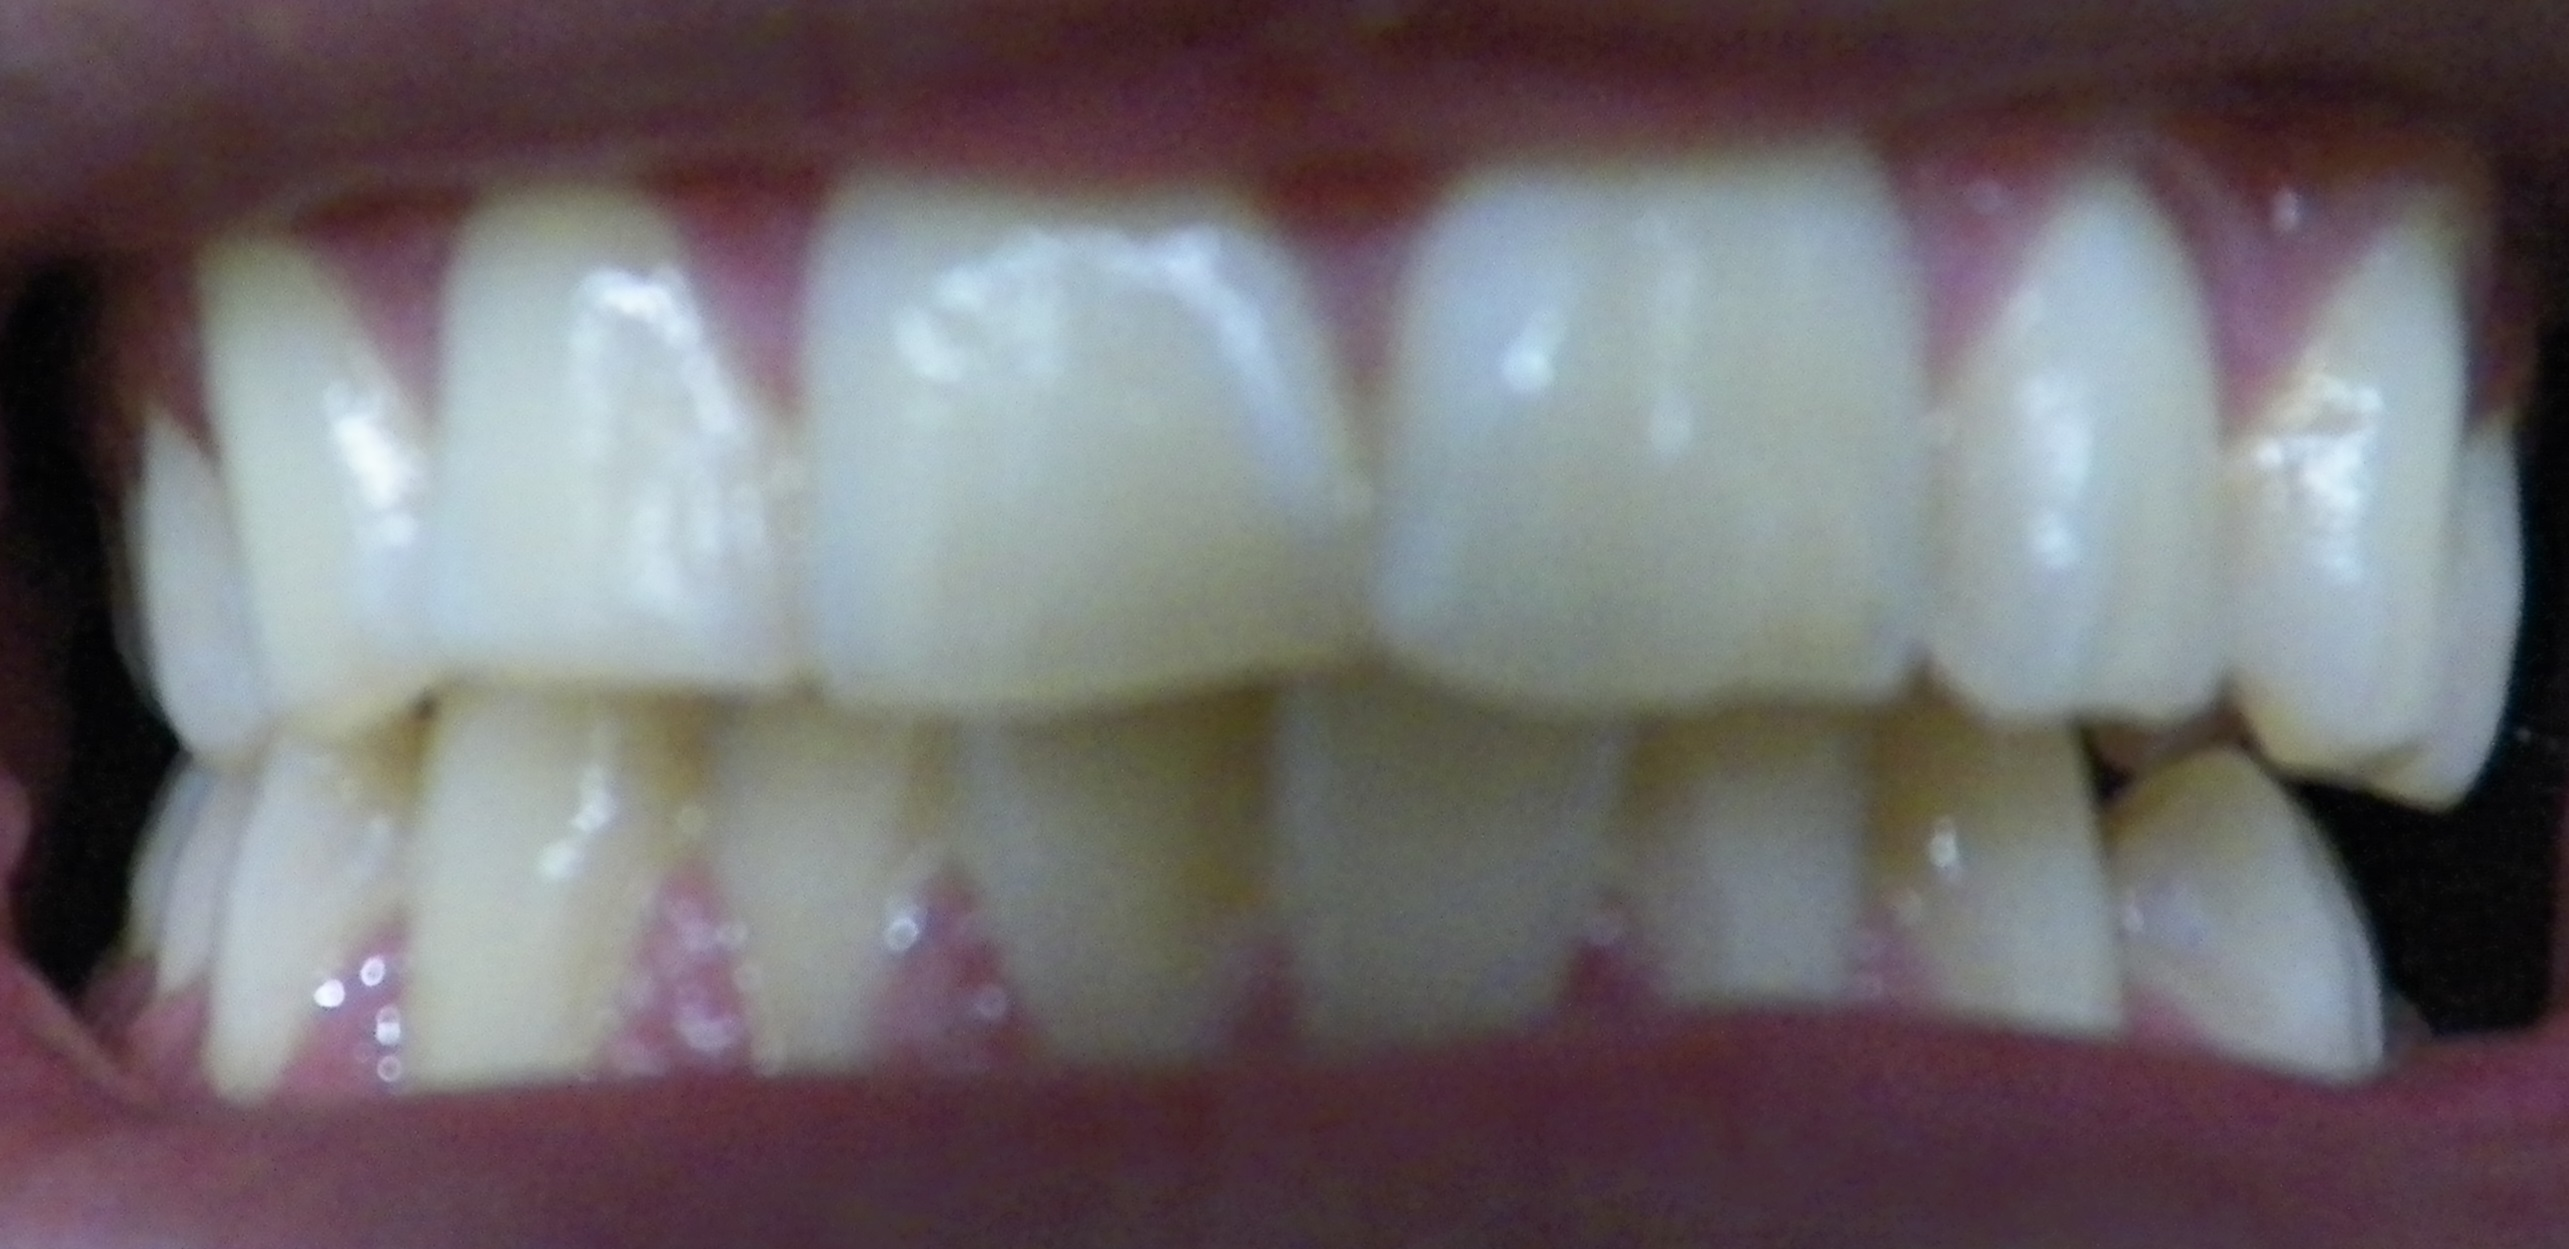boca: (125, 134, 2499, 1098)
